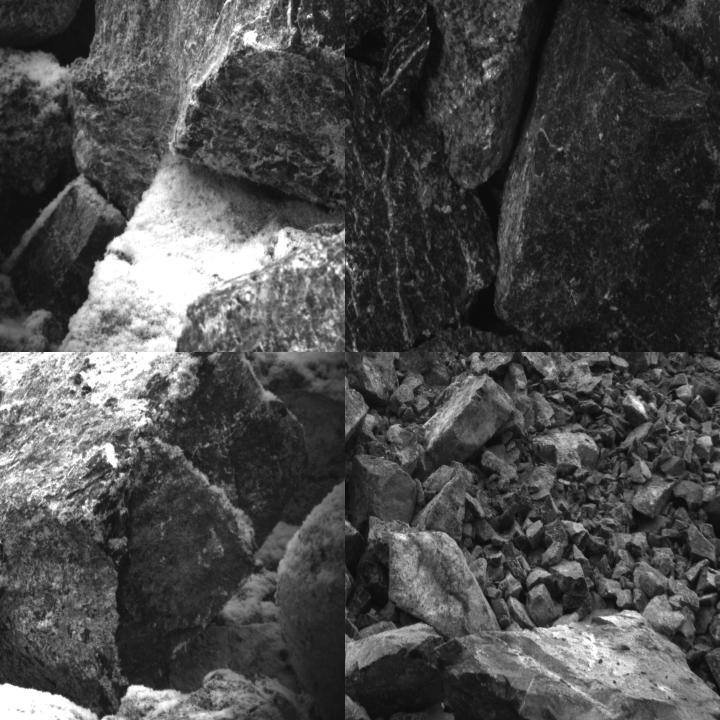stone: (0, 352, 309, 716), (492, 0, 719, 351), (67, 0, 344, 229), (345, 38, 496, 351), (445, 614, 719, 719), (394, 0, 543, 185), (154, 226, 344, 351), (386, 532, 500, 642), (413, 374, 514, 480), (346, 626, 446, 718), (378, 0, 430, 125), (348, 456, 418, 528), (345, 360, 371, 495), (418, 476, 466, 546), (641, 594, 696, 646), (534, 425, 598, 469), (345, 483, 371, 564), (362, 352, 402, 402), (633, 471, 674, 519), (345, 568, 366, 640), (550, 561, 589, 596), (686, 525, 719, 562), (387, 374, 419, 411), (615, 352, 664, 375), (674, 477, 702, 509), (483, 352, 514, 378), (541, 520, 569, 548), (621, 396, 648, 424), (539, 541, 565, 567), (578, 376, 603, 402), (526, 519, 544, 549), (470, 353, 489, 378)
